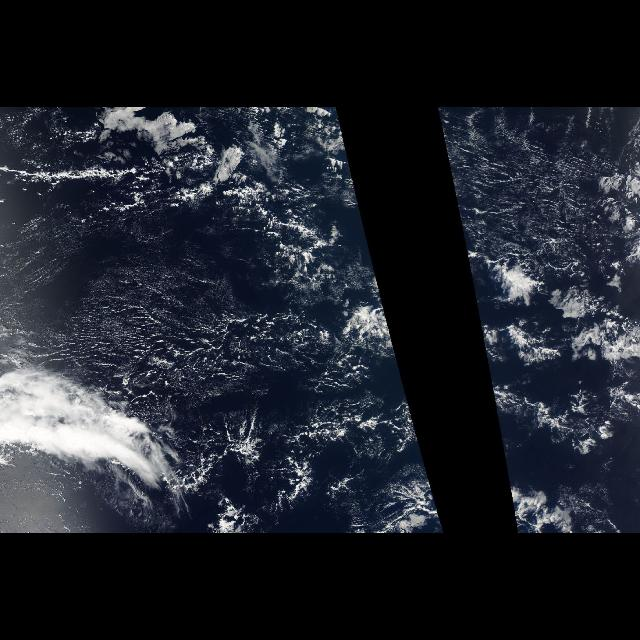Gravel: (190, 312, 440, 520)
Sugar: (1, 188, 342, 400), (438, 110, 640, 300)
